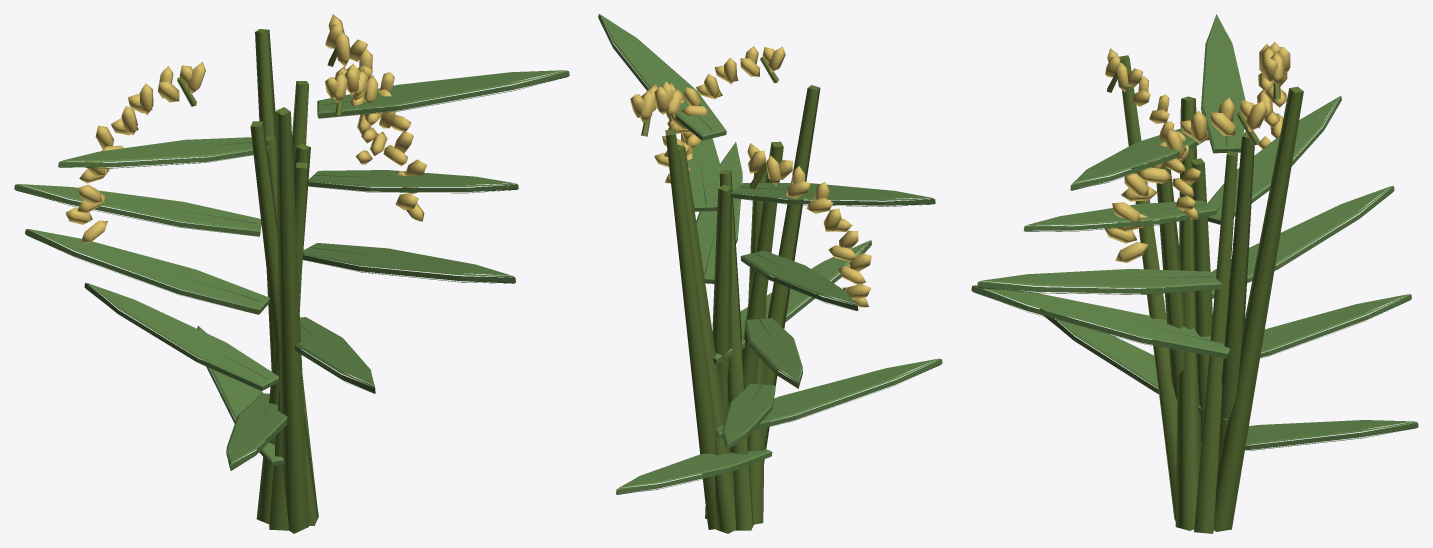
The model's file is rice.m1.glb.
3 views of the same model, side by side, from view 1: azimuth 30°, elevation 25°; view 2: azimuth 150°, elevation 25°; view 3: azimuth 270°, elevation 25° (orthographic). The views are drawn at different scales.
Parts seen in each view (by area): view 1: cropLeafInstances, cropStemInstances, cropFruitInstances; view 2: cropLeafInstances, cropStemInstances, cropFruitInstances; view 3: cropLeafInstances, cropStemInstances, cropFruitInstances.
Boxes of the visible parts, x1=… form: cropLeafInstances: x1=14, y1=70, x2=569, y2=470; cropStemInstances: x1=250, y1=29, x2=318, y2=533; cropFruitInstances: x1=65, y1=14, x2=426, y2=242; cropLeafInstances: x1=598, y1=14, x2=942, y2=494; cropStemInstances: x1=665, y1=85, x2=820, y2=533; cropFruitInstances: x1=630, y1=46, x2=871, y2=307; cropLeafInstances: x1=971, y1=14, x2=1418, y2=450; cropStemInstances: x1=1118, y1=55, x2=1303, y2=533; cropFruitInstances: x1=1104, y1=41, x2=1290, y2=262.
Size of what is drawn, in the model's own units: 1.29 by 1.35 by 1.16.
